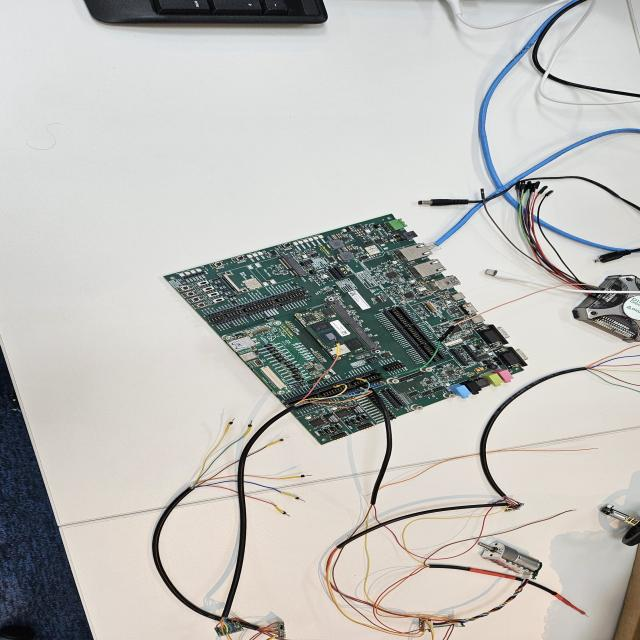som: (294, 301, 372, 367)
